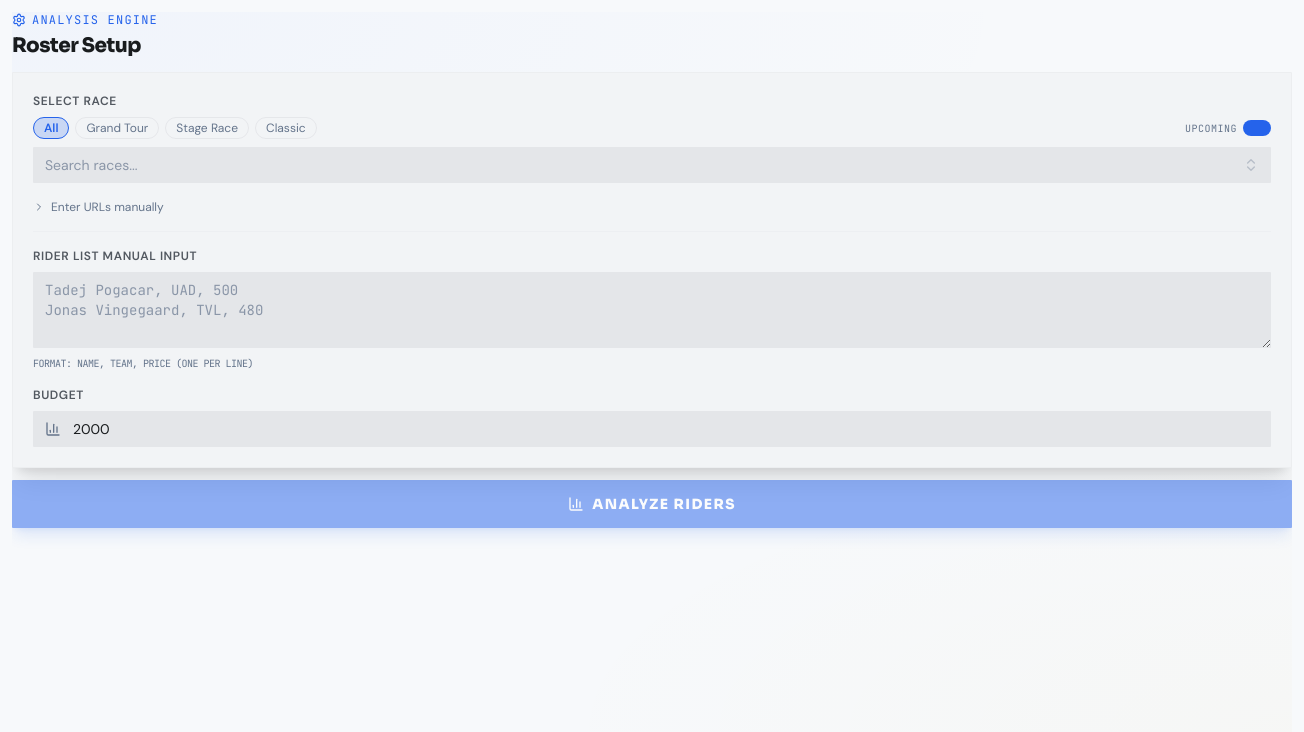
Test case: RiderInput › enables Analyze button when valid riders entered
In the text box with test id "setup-riders-textarea": (652, 310) [33, 272, 1271, 348], type "Pogačar, UAE, 700"
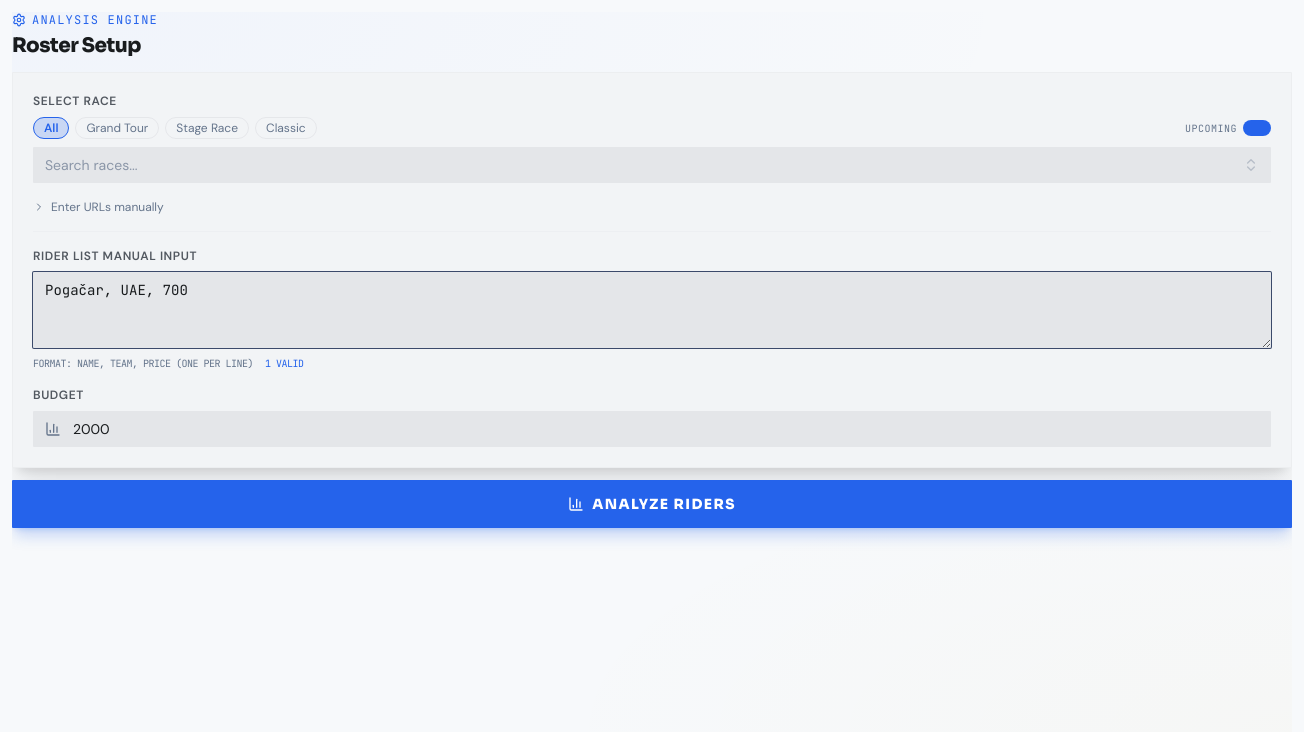
Check: the button with test id "setup-analyze-btn" is enabled, box [12, 480, 1292, 528]
